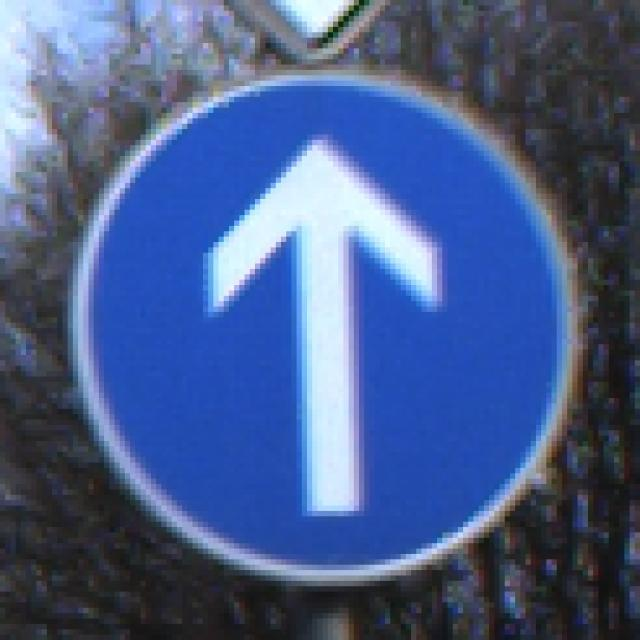compulsary ahead: (77, 82, 565, 574)
